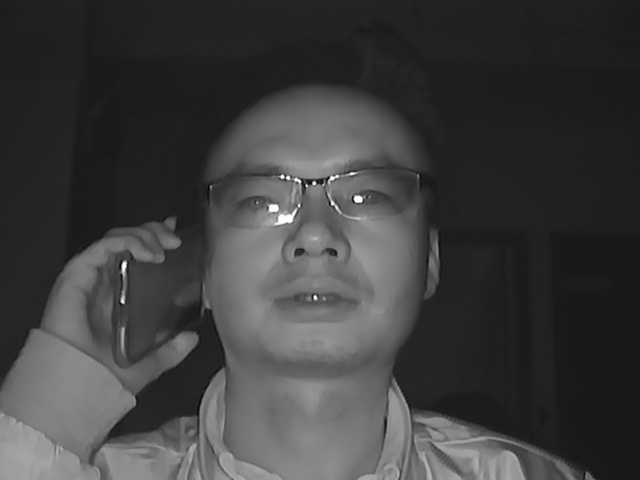hand: (55, 217, 175, 388)
